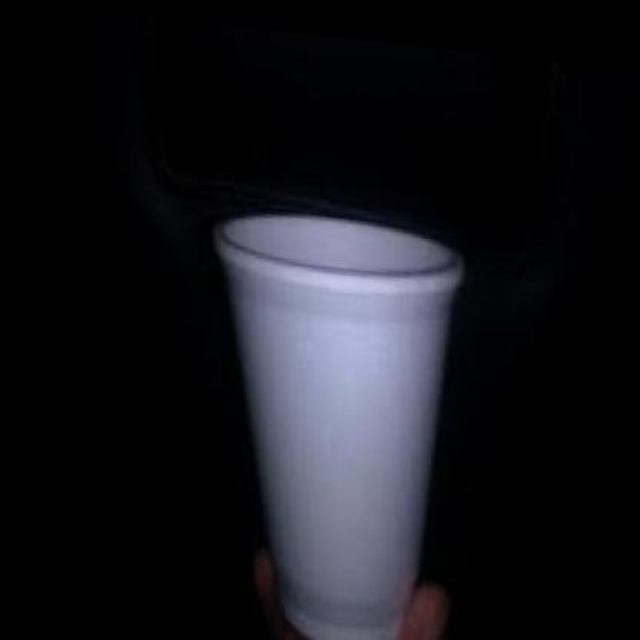trash: (215, 214, 462, 638)
